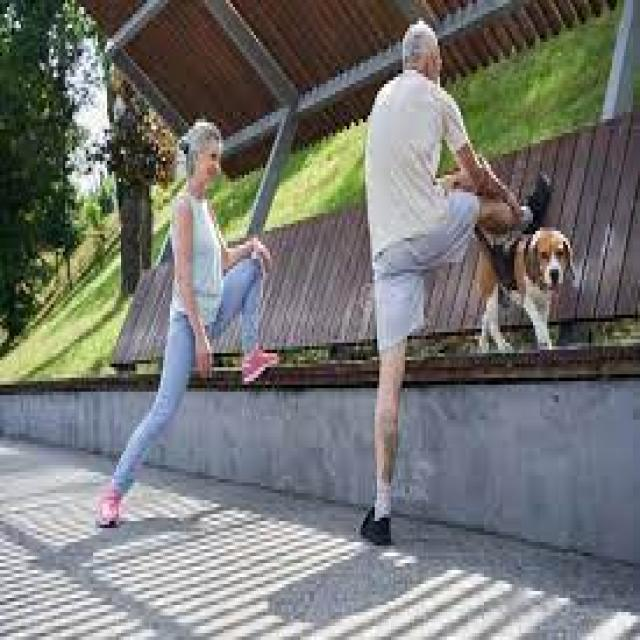Dog: (460, 217, 580, 363)
